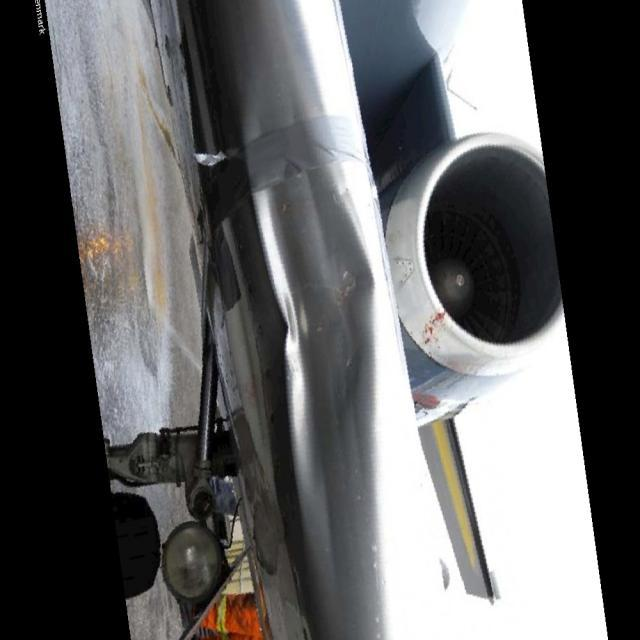dent: (243, 104, 380, 622)
